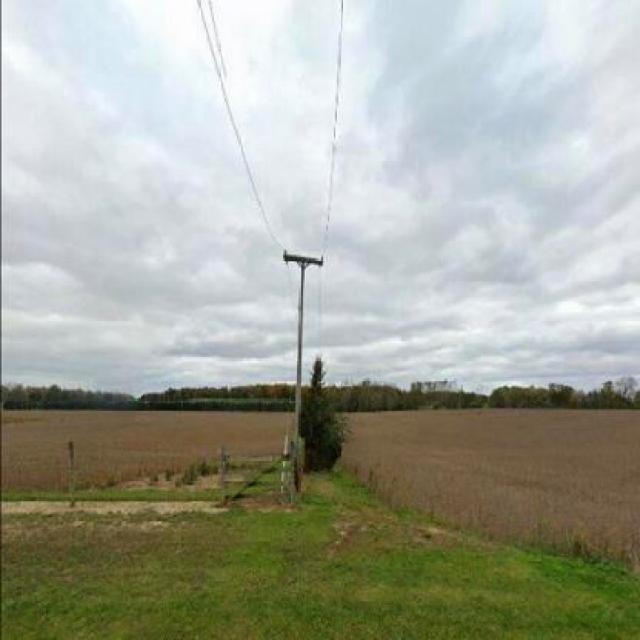crossarm: (280, 251, 324, 269)
pole: (281, 262, 306, 506)
wire: (196, 0, 285, 251), (326, 0, 344, 232)
